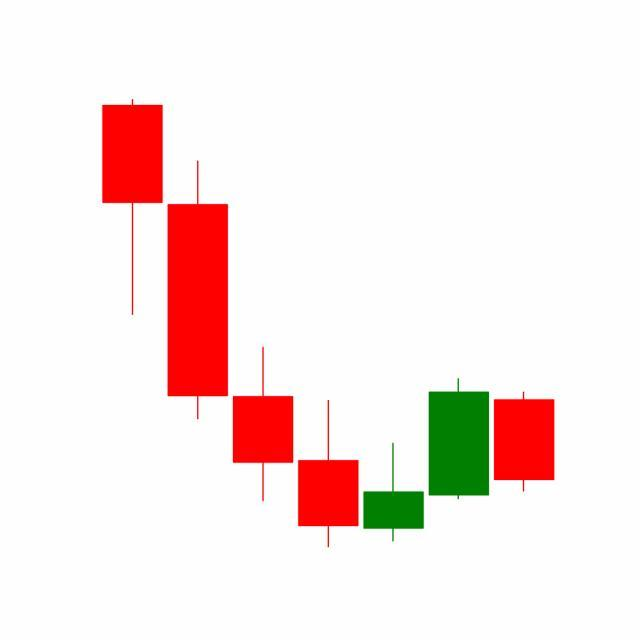Hikkake Pattern: (165, 156, 492, 548)
